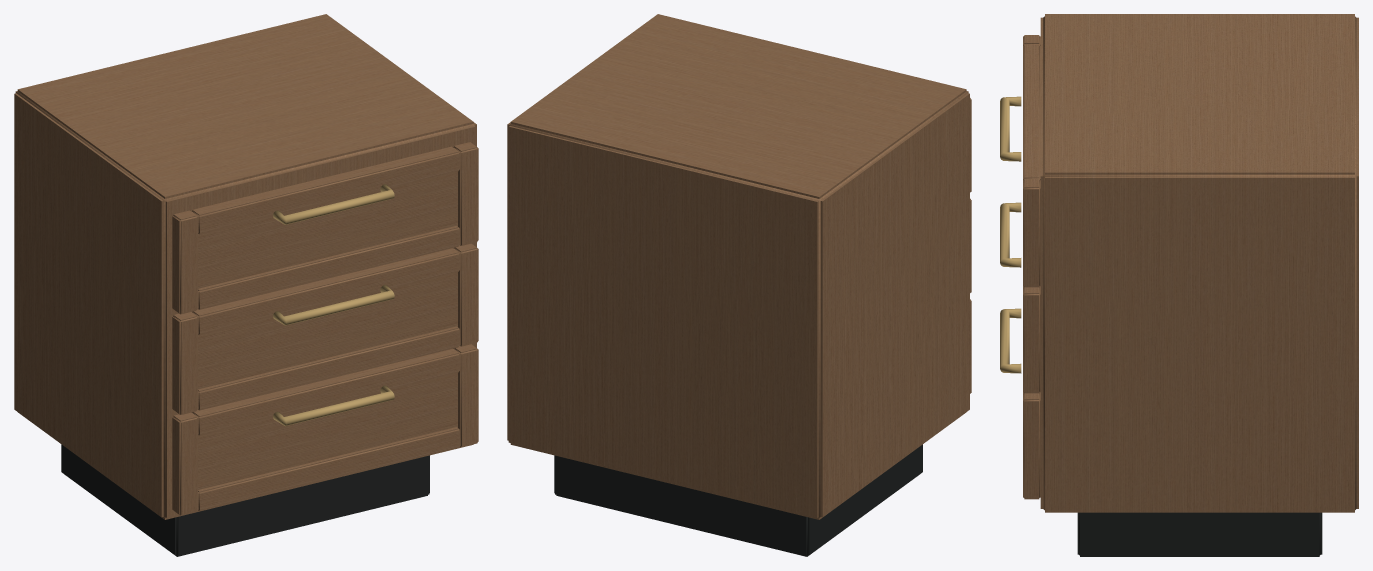
The model's file is traditional.bedside.gltf.
3 views of the same model, side by side, from view 1: azimuth 30°, elevation 25°; view 2: azimuth 150°, elevation 25°; view 3: azimuth 270°, elevation 25° (orthographic). The views are drawn at different scales.
Parts seen in each view (by area): view 1: traditional.bedside.carcass; view 2: traditional.bedside.carcass; view 3: traditional.bedside.carcass.
Part boxes in pixels (x1=…): traditional.bedside.carcass: x1=14, y1=14, x2=478, y2=556; traditional.bedside.carcass: x1=507, y1=14, x2=971, y2=556; traditional.bedside.carcass: x1=1000, y1=14, x2=1358, y2=556.
Bounding box in the file's own units: 0.47 × 0.54 × 0.44.
3 materials, 1 textured.
